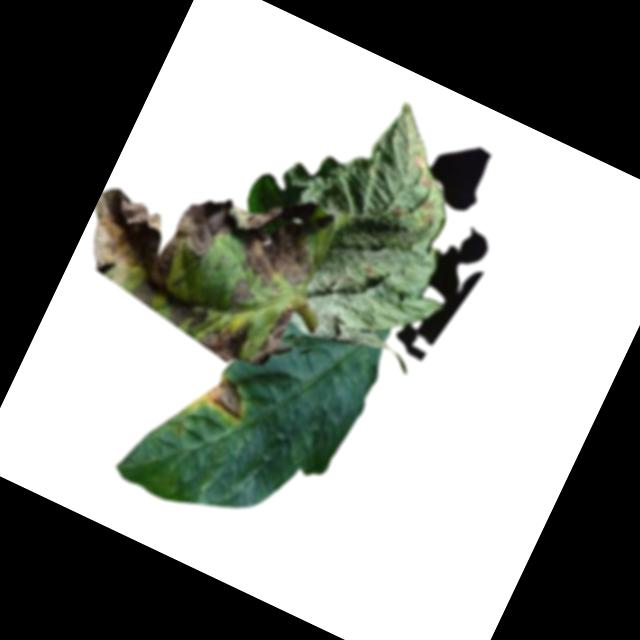Early_blight: (67, 131, 328, 358), (192, 304, 256, 371), (250, 296, 298, 370), (156, 286, 213, 338), (200, 368, 255, 421), (388, 199, 407, 218), (418, 174, 434, 189), (421, 209, 436, 224), (421, 197, 436, 210)
